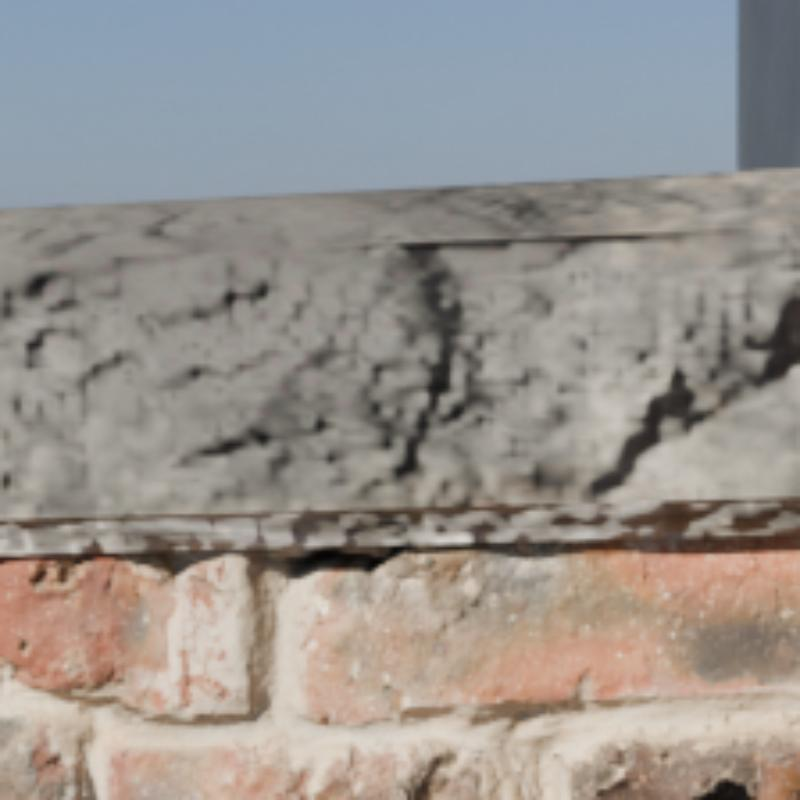pothole: (239, 543, 418, 579)
